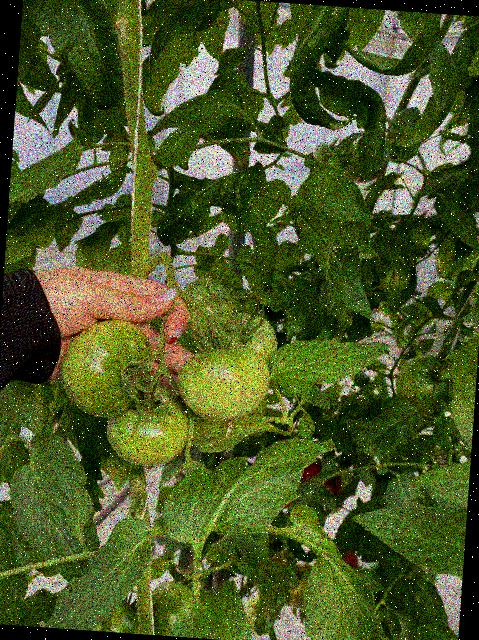b_green: (55, 314, 155, 422), (174, 340, 271, 425), (102, 379, 192, 470), (211, 310, 279, 375), (392, 354, 455, 415), (175, 275, 235, 337), (147, 578, 191, 637), (78, 595, 139, 634)
